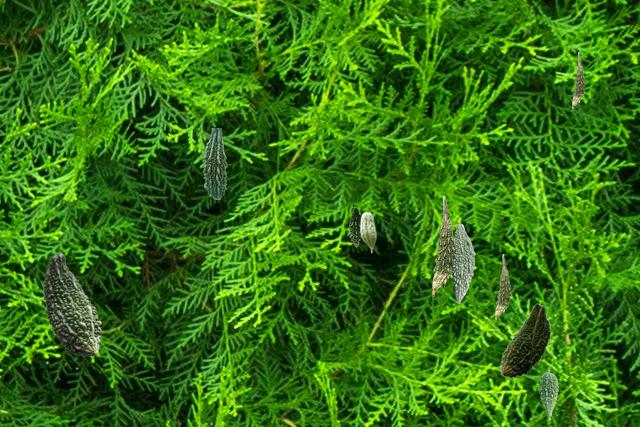ampalaya: (43, 251, 101, 355), (500, 303, 550, 377), (432, 196, 455, 296), (451, 216, 474, 303), (202, 128, 226, 198), (495, 254, 510, 320), (539, 367, 557, 420), (572, 52, 584, 109), (360, 212, 375, 252), (349, 206, 361, 246)
